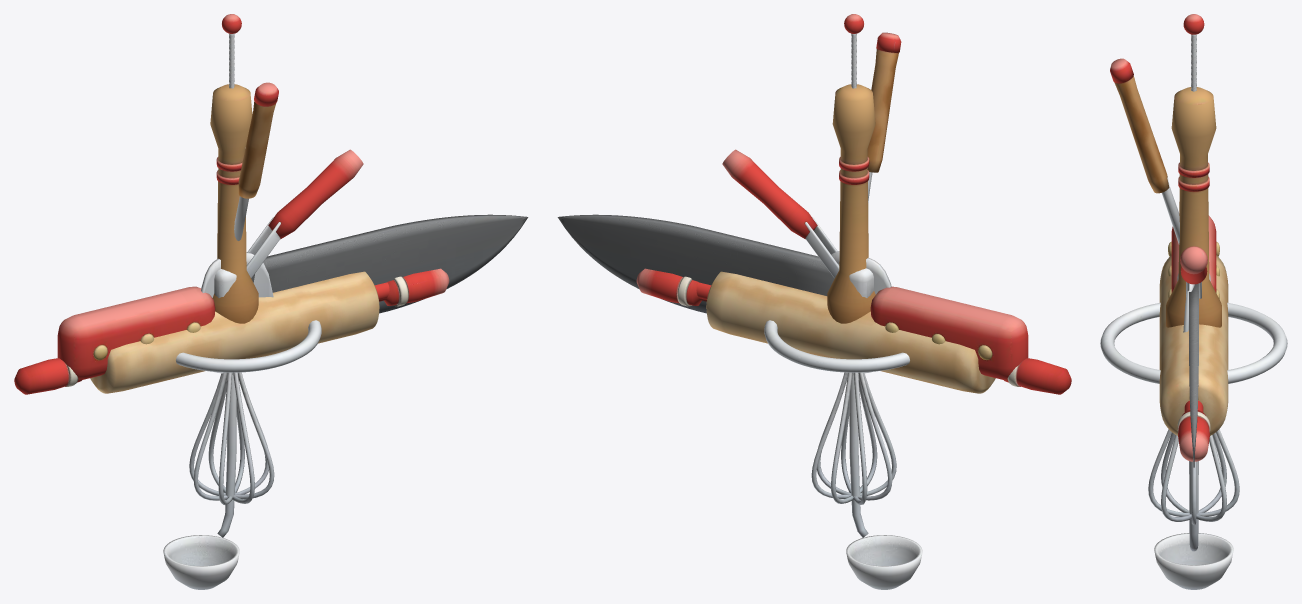
Rendered from utensils.glb.
The picture shows the model from 3 angles, left to right: view 1: azimuth 30°, elevation 25°; view 2: azimuth 150°, elevation 25°; view 3: azimuth 270°, elevation 25°; orthographic projection. The views are drawn at different scales.
Visible parts, largest first — view 1: pin, knife_blade, knife_handle, muddler, whisk_wire, ladle, wheel_handle, spatula_handle, sieve_rim, spatula_head, wheel_fork; view 2: pin, knife_blade, muddler, knife_handle, whisk_wire, ladle, wheel_handle, spatula_handle, sieve_rim, wheel_fork; view 3: pin, muddler, ladle, sieve_rim, whisk_wire, spatula_handle, knife_blade, knife_handle, wheel_handle, spatula_head, barspoon_cap, barspoon.
Boxes of the visible parts, box(x1,y1,x2,y2) form: pin: box(14, 268, 449, 394); knife_blade: box(214, 214, 528, 313); knife_handle: box(57, 286, 215, 379); muddler: box(210, 84, 258, 323); whisk_wire: box(189, 372, 274, 504); ladle: box(163, 372, 239, 589); wheel_handle: box(268, 149, 363, 239); spatula_handle: box(238, 82, 278, 198); sieve_rim: box(176, 320, 321, 372); spatula_head: box(201, 196, 273, 297); wheel_fork: box(246, 217, 280, 278); pin: box(636, 268, 1071, 394); knife_blade: box(557, 214, 873, 313); muddler: box(827, 84, 875, 323); knife_handle: box(870, 286, 1028, 379); whisk_wire: box(811, 372, 896, 504); ladle: box(846, 372, 922, 589); wheel_handle: box(722, 149, 817, 239); spatula_handle: box(867, 32, 901, 172); sieve_rim: box(764, 320, 909, 372); wheel_fork: box(805, 217, 839, 278); pin: box(1159, 255, 1228, 461); muddler: box(1166, 87, 1221, 327); ladle: box(1154, 461, 1233, 589); sieve_rim: box(1100, 302, 1287, 383); whisk_wire: box(1148, 429, 1239, 524); spatula_handle: box(1110, 58, 1169, 193); knife_blade: box(1177, 273, 1210, 467); knife_handle: box(1168, 215, 1219, 299); wheel_handle: box(1180, 246, 1207, 284); spatula_head: box(1162, 176, 1194, 332); barspoon_cap: box(1183, 14, 1204, 34); barspoon: box(1191, 34, 1196, 91).
Size of the model in its own units: 4.4 by 4.62 by 1.34.
Materials: 17 (17 with a texture image).
